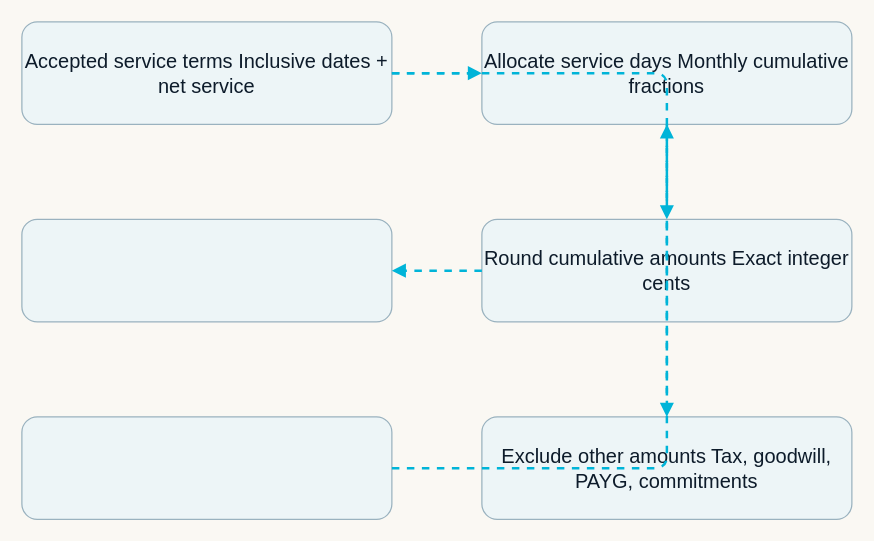
Some shapes in this 874 by 541 pixel diagram are drawn without their labels. Here are the shapes that lost their labels. From the top down, the box of each, then its label:
(21, 218, 392, 322): Preserve monthly schedule Totals match signed source
(21, 416, 392, 519): Unused-service credit Separate negative schedule
